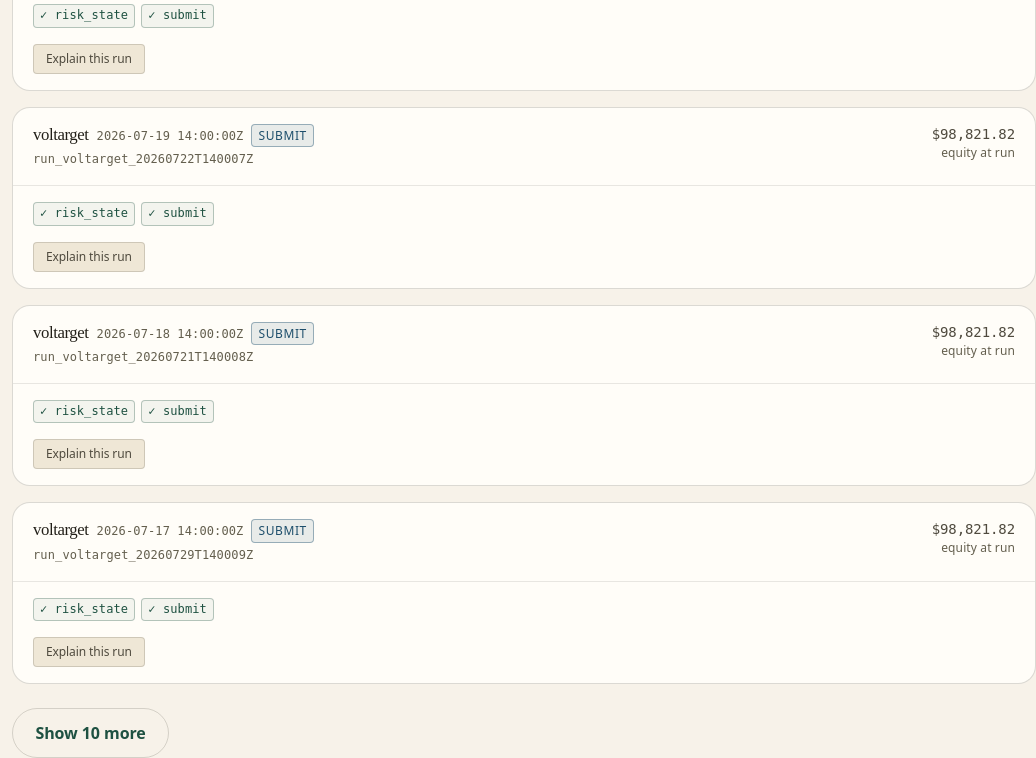
/decisions pagination › appends the next 10 on Show more
The width and height of the screenshot is (1036, 758).
(page scrolled)
Click the button "Show 10 more".
click(91, 733)  # box [12, 708, 169, 757]
(page scrolled)
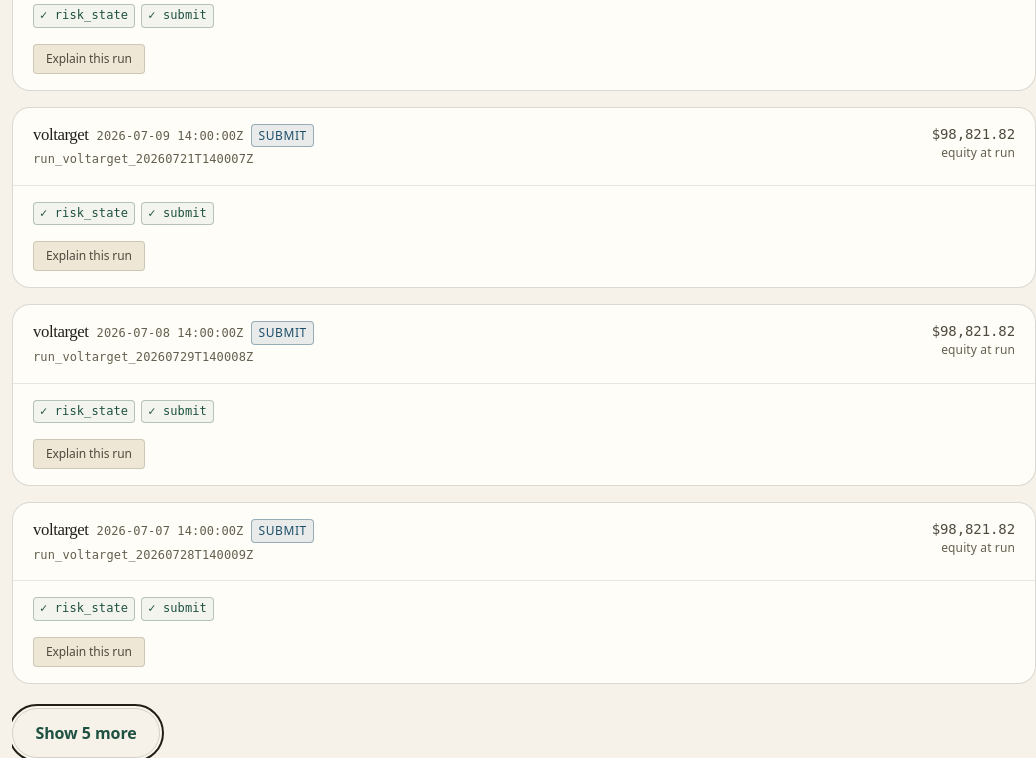
Expected: the button with test id "show-more-runs" reads "Show 5 more"
Click the button with test id "show-more-runs".
click(86, 733)  # box [12, 708, 160, 757]
(page scrolled)
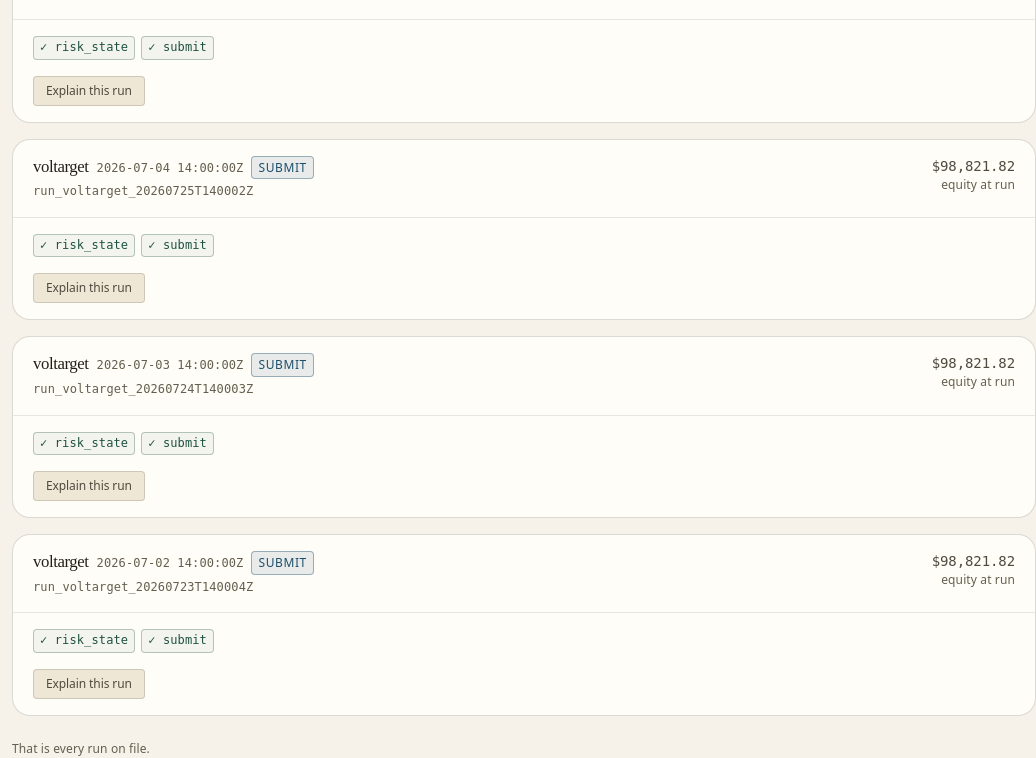
Expected: the button with test id "show-more-runs" is gone
Expected: the text "That is every run on file." is shown, [12, 740, 150, 757]
